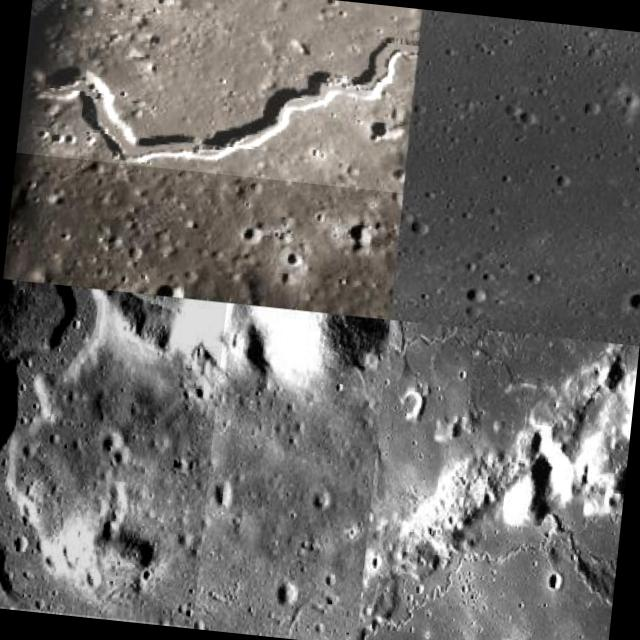rille: (0, 279, 226, 627), (356, 358, 633, 640), (16, 0, 421, 192)
